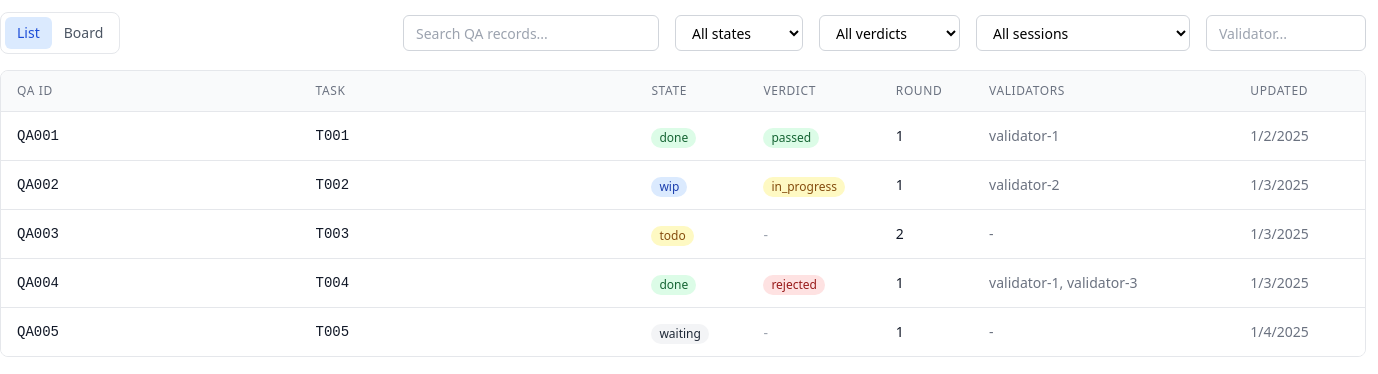
Test case: QAView › Filters › filters QA records by session
The image size is (1378, 374).
Select "Bug Fixes" in the dropdown named "session". click: [1083, 33]
box: [976, 15, 1190, 51]
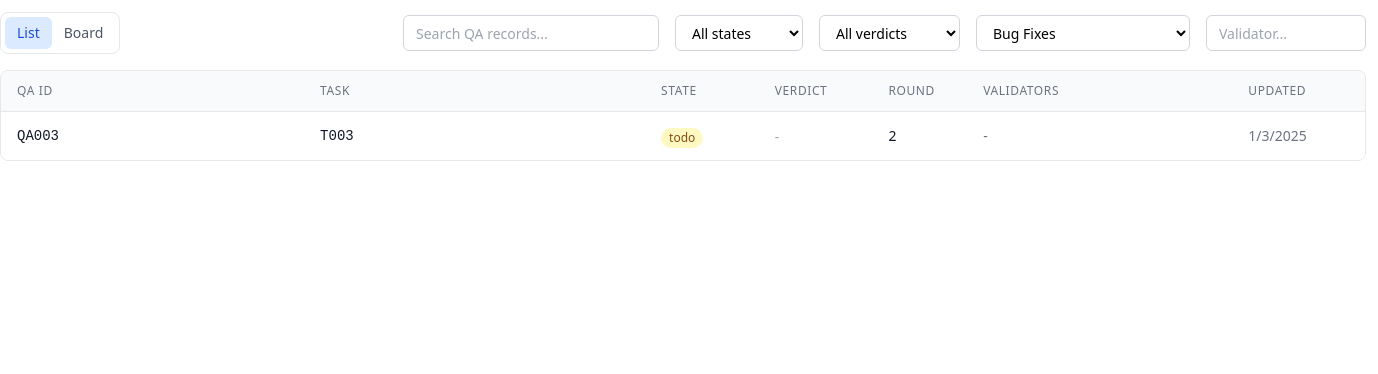
Expected: the text "QA003" is shown, [17, 128, 59, 144]
Result: the text "QA001" is gone
